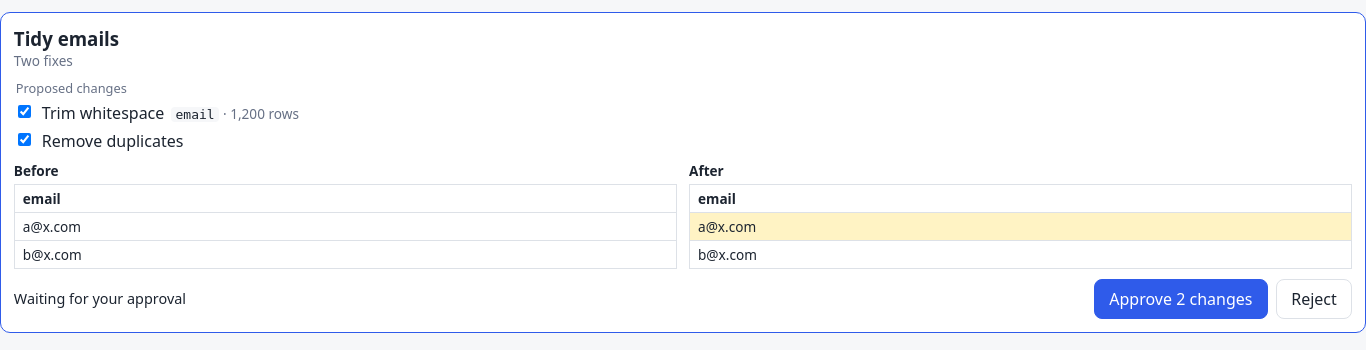
Scenario: CleanupProposalCard › disables approval when nothing is selected
Click the checkbox labelled "Trim whitespace".
click(24, 112)  # box [18,105,31,118]
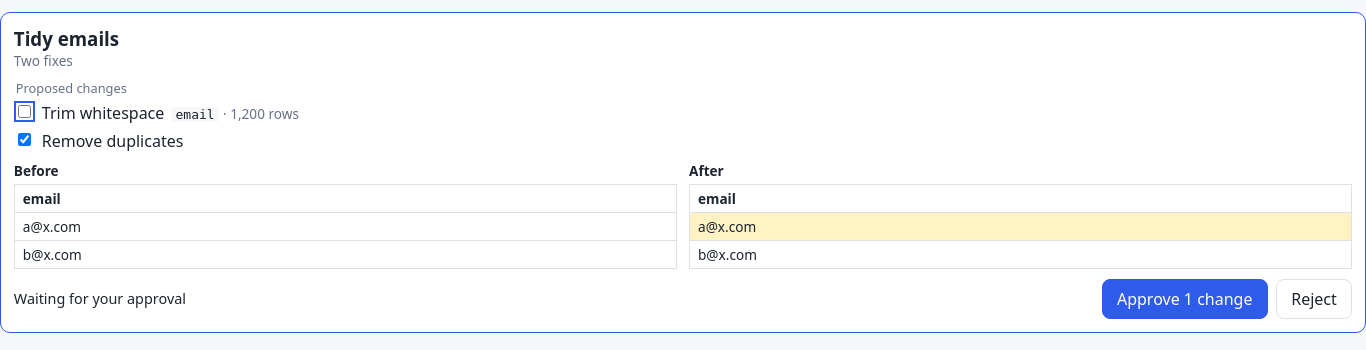
Click the checkbox labelled "Remove duplicates".
click(24, 139)  # box [18,133,31,146]
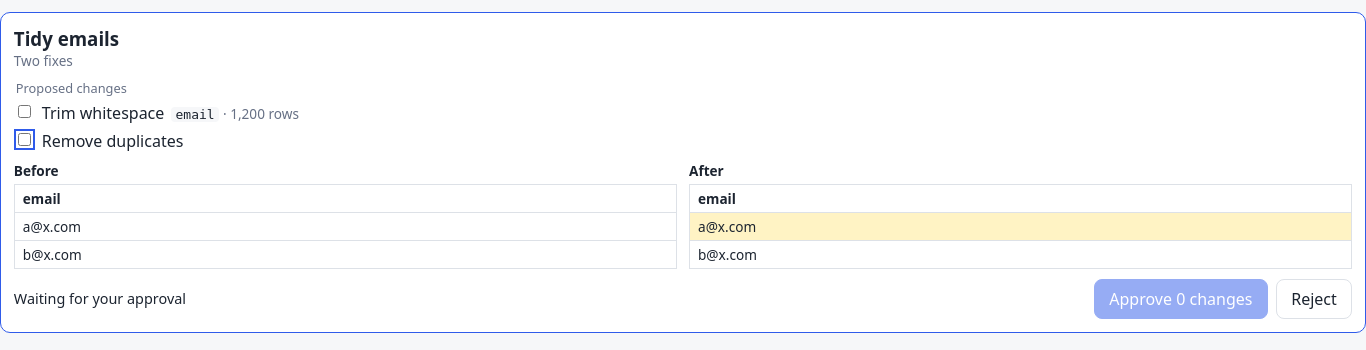
Result: the button "Approve 0 changes" is disabled at [1094,279,1268,319]
